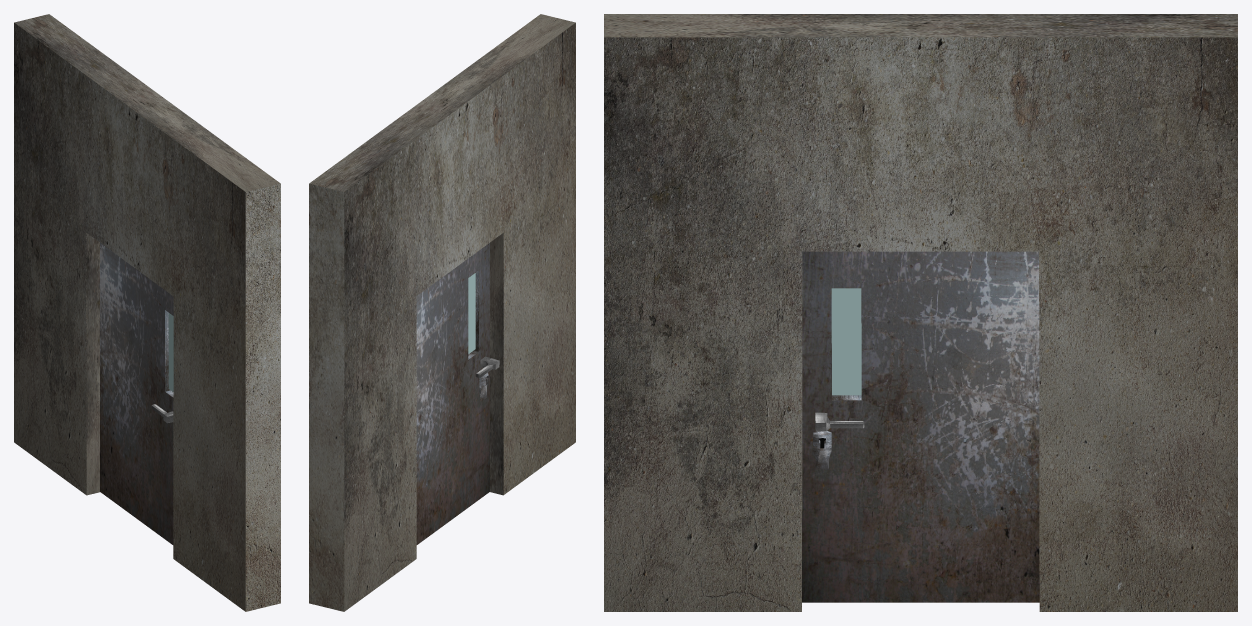
File: door.fbx
The picture shows the model from 3 angles, left to right: view 1: azimuth 30°, elevation 25°; view 2: azimuth 150°, elevation 25°; view 3: azimuth 270°, elevation 25°; orthographic projection. The views are drawn at different scales.
Parts seen in each view (by area): view 1: Wall, Door, Glass; view 2: Wall, Door, Glass; view 3: Wall, Door, Glass.
Boxes of the visible parts, bbox=[...] form: Wall: bbox=[14, 14, 280, 611]; Door: bbox=[100, 243, 173, 544]; Glass: bbox=[168, 313, 173, 391]; Wall: bbox=[309, 14, 575, 611]; Door: bbox=[416, 243, 489, 544]; Glass: bbox=[468, 273, 475, 353]; Wall: bbox=[604, 14, 1237, 611]; Door: bbox=[802, 251, 1039, 602]; Glass: bbox=[831, 288, 861, 395].
Bounding box in the file's own units: 36.95 × 400 × 400.
